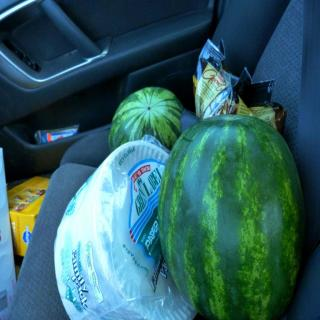Watermelon: (156, 116, 312, 320), (106, 86, 184, 152)
